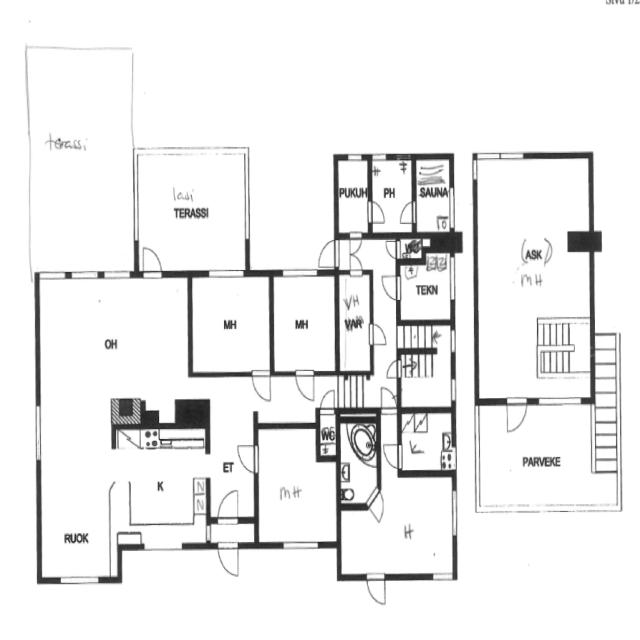door: (502, 394, 530, 437), (234, 438, 260, 479), (215, 540, 242, 579), (216, 485, 242, 524), (139, 242, 164, 280), (365, 570, 388, 608), (294, 366, 317, 403), (250, 366, 273, 403), (381, 438, 404, 473), (366, 486, 387, 524), (316, 238, 340, 270), (381, 271, 402, 303), (367, 320, 390, 349), (366, 199, 386, 226), (398, 200, 418, 227), (319, 386, 337, 414), (379, 384, 397, 412), (384, 357, 402, 382), (348, 253, 364, 278), (348, 232, 363, 257), (384, 240, 400, 260)
window: (40, 264, 104, 286), (535, 390, 588, 413), (472, 146, 531, 164), (32, 398, 45, 468), (138, 538, 187, 556), (57, 572, 104, 590), (202, 266, 248, 284), (278, 537, 322, 555), (278, 264, 320, 280), (449, 488, 460, 541), (100, 266, 133, 283), (448, 253, 458, 305), (448, 186, 458, 233), (429, 570, 456, 584), (470, 153, 479, 186), (344, 150, 364, 164), (449, 376, 458, 405), (450, 326, 458, 358), (371, 150, 388, 165)
zone: (474, 156, 593, 408), (35, 273, 191, 429), (473, 396, 619, 517), (338, 478, 458, 580), (40, 426, 119, 580), (119, 423, 208, 546), (255, 425, 338, 545), (190, 272, 272, 376), (272, 272, 337, 375), (338, 411, 379, 507), (398, 253, 452, 323), (400, 408, 456, 474), (336, 274, 373, 373), (369, 156, 414, 237), (414, 156, 454, 237), (337, 154, 371, 236), (401, 362, 454, 406), (318, 406, 339, 461)
